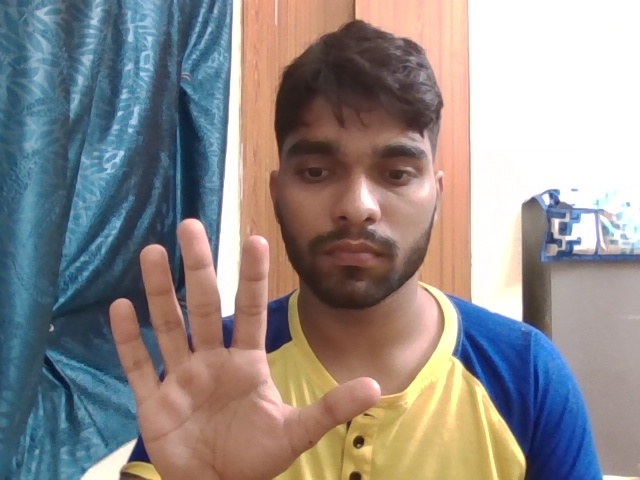Hello: (103, 210, 387, 479)
